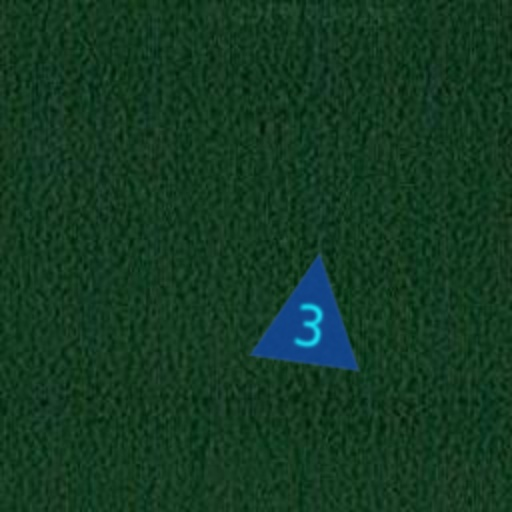triangle: (248, 244, 376, 372)
